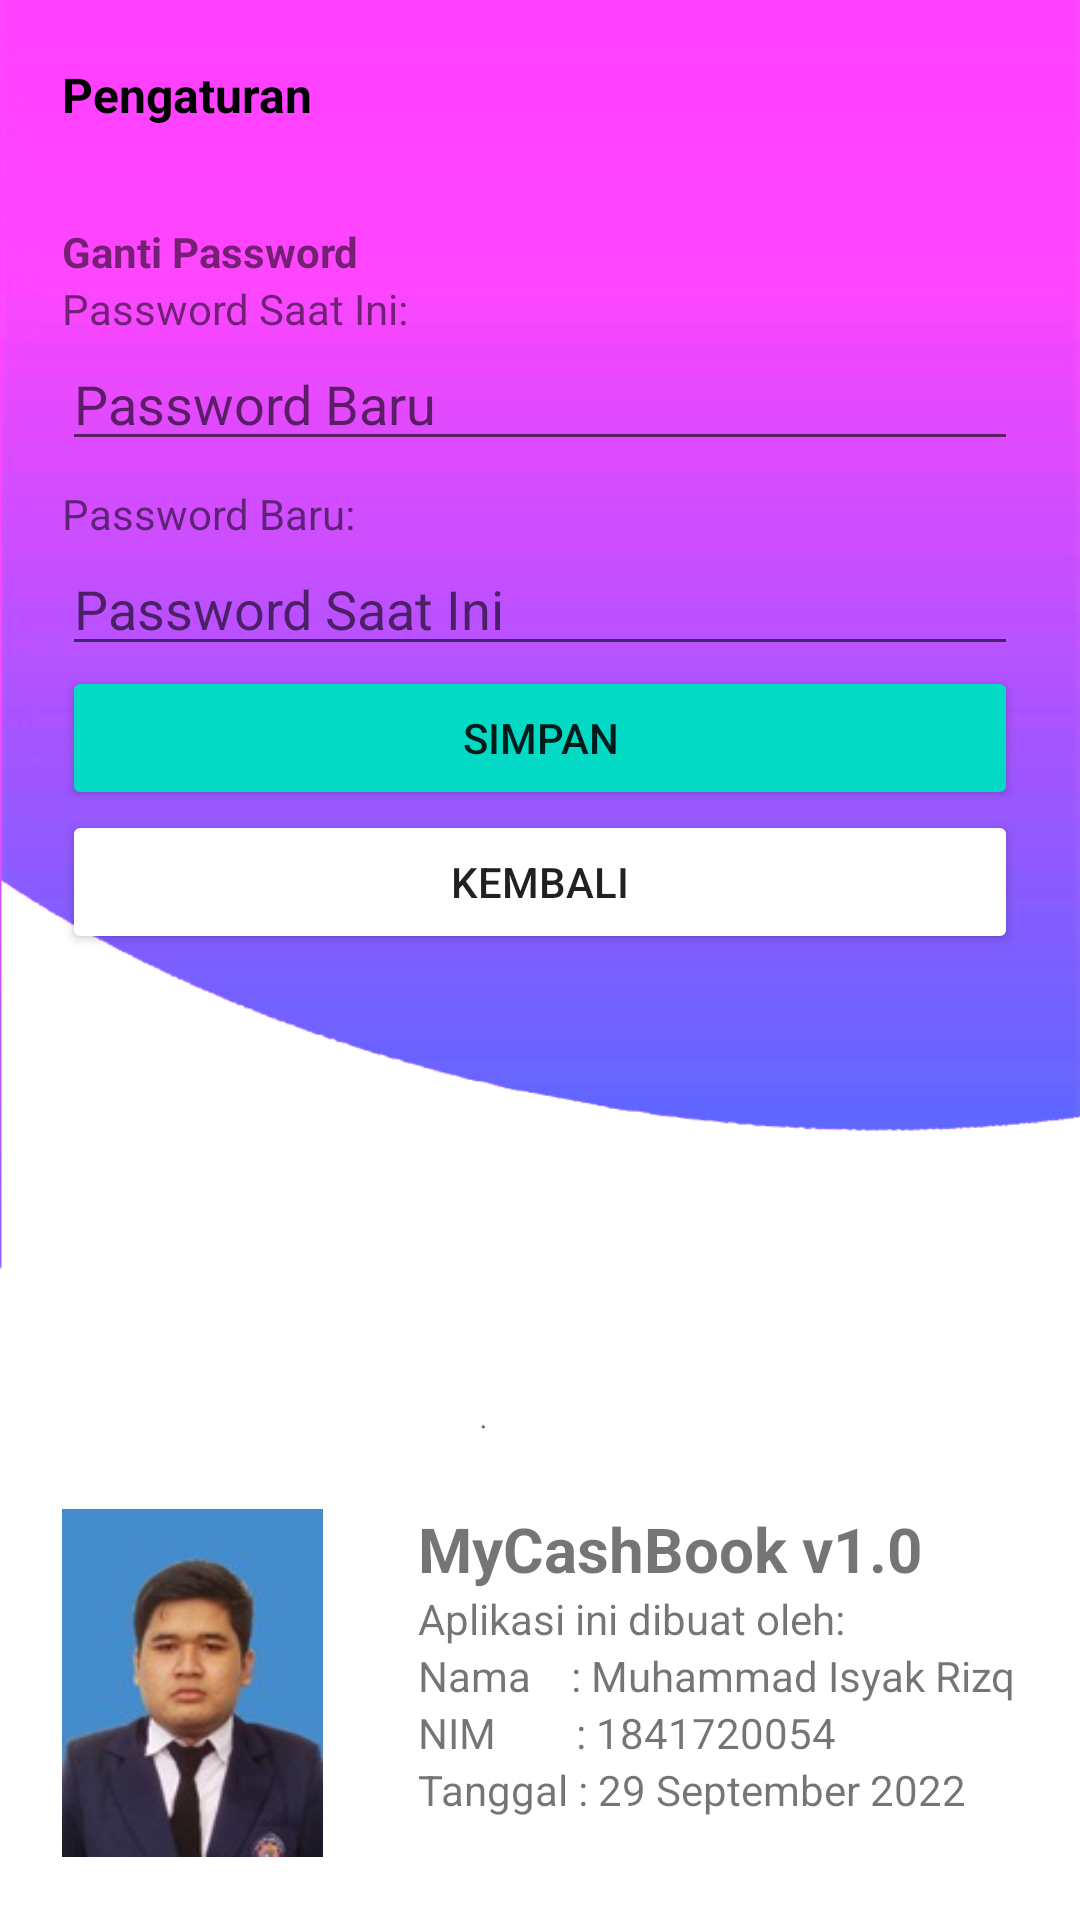

Icons on this 1080*1920 Android screen, each with the point to tap as point (x, y):
dev profile: point (192, 1683)
